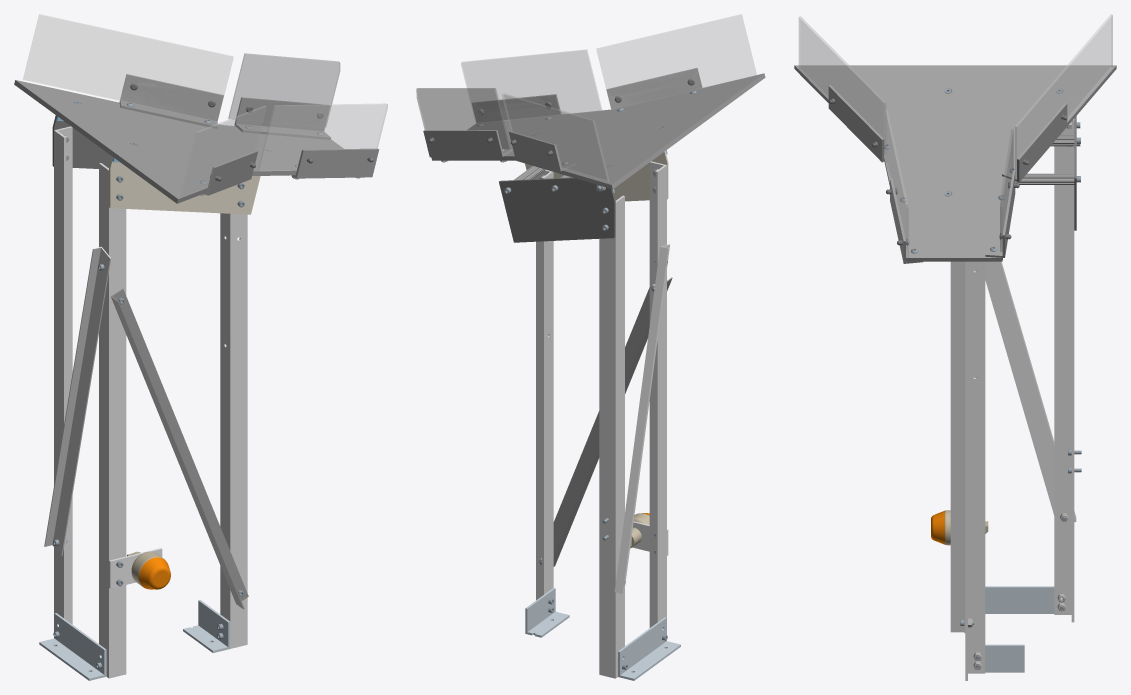
The picture shows the model from 3 angles, left to right: view 1: azimuth 30°, elevation 25°; view 2: azimuth 150°, elevation 25°; view 3: azimuth 270°, elevation 25°; orthographic projection. The views are drawn at different scales.
Parts seen in each view (by area): view 1: plate mega, wall2, bar 2, bar 3, bar 1, wall4, crossbar 2, wall3, crossbar, plate big, wall1, wall-B 2 (same as wall B 1) (+8 smaller); view 2: plate mega, bar 1, wall1, wall3, bar 2, bar 3, plate small, wall2, wall4, crossbar 2, crossbar, wall-B 4 (same as wall B 1) (+6 smaller); view 3: plate mega, bar 1, bar 3, crossbar, crossbar 2, wall2, wall1, outer mount, wall-B 2 (same as wall B 1), wall-B 1, wall-B 4 (same as wall B 1), wall3 (+5 smaller).
Part boxes in pixels (x1=…): plate mega: x1=14, y1=80, x2=343, y2=203; wall2: x1=23, y1=14, x2=233, y2=121; bar 2: x1=99, y1=163, x2=126, y2=678; bar 3: x1=220, y1=213, x2=247, y2=648; bar 1: x1=54, y1=126, x2=72, y2=637; wall4: x1=228, y1=53, x2=340, y2=127; crossbar 2: x1=44, y1=246, x2=110, y2=555; wall3: x1=258, y1=103, x2=387, y2=170; crossbar: x1=111, y1=288, x2=248, y2=609; plate big: x1=109, y1=156, x2=260, y2=214; wall1: x1=180, y1=106, x2=266, y2=197; wall-B 2 (same as wall B 1): x1=119, y1=74, x2=223, y2=128; plate mega: x1=431, y1=73, x2=765, y2=189; bar 1: x1=599, y1=195, x2=624, y2=678; wall1: x1=596, y1=14, x2=756, y2=109; wall3: x1=461, y1=49, x2=601, y2=122; bar 2: x1=649, y1=161, x2=666, y2=627; bar 3: x1=536, y1=169, x2=553, y2=600; plate small: x1=499, y1=177, x2=615, y2=242; wall2: x1=502, y1=93, x2=609, y2=181; wall4: x1=416, y1=88, x2=510, y2=149; crossbar 2: x1=614, y1=244, x2=669, y2=593; crossbar: x1=553, y1=277, x2=672, y2=566; wall-B 4 (same as wall B 1): x1=423, y1=130, x2=513, y2=157; plate mega: x1=794, y1=65, x2=1116, y2=261; bar 1: x1=1054, y1=119, x2=1074, y2=622; bar 3: x1=965, y1=261, x2=985, y2=680; crossbar: x1=950, y1=261, x2=965, y2=633; crossbar 2: x1=985, y1=261, x2=1076, y2=522; wall2: x1=1015, y1=14, x2=1112, y2=179; wall1: x1=799, y1=16, x2=885, y2=154; outer mount: x1=985, y1=586, x2=1062, y2=613; wall-B 2 (same as wall B 1): x1=1002, y1=103, x2=1067, y2=181; wall-B 1: x1=828, y1=85, x2=884, y2=162; wall-B 4 (same as wall B 1): x1=985, y1=171, x2=1015, y2=257; wall3: x1=885, y1=110, x2=908, y2=257.
Size of the model in its own units: 0.3916 by 0.8528 by 0.4138.
